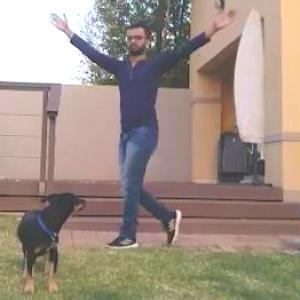takeoff: (41, 0, 243, 270)
